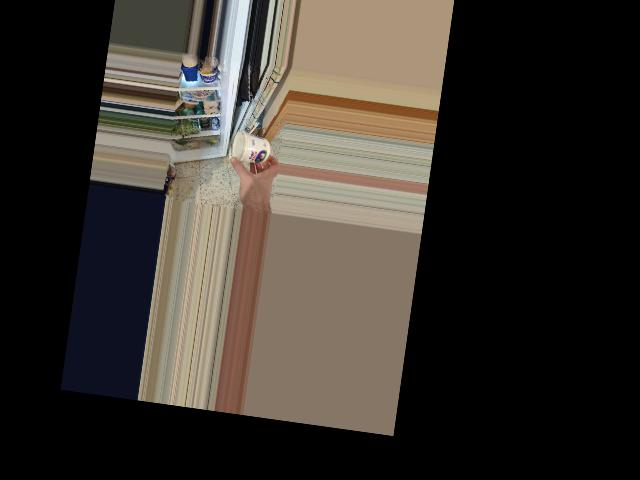cotage: (228, 129, 276, 168)
